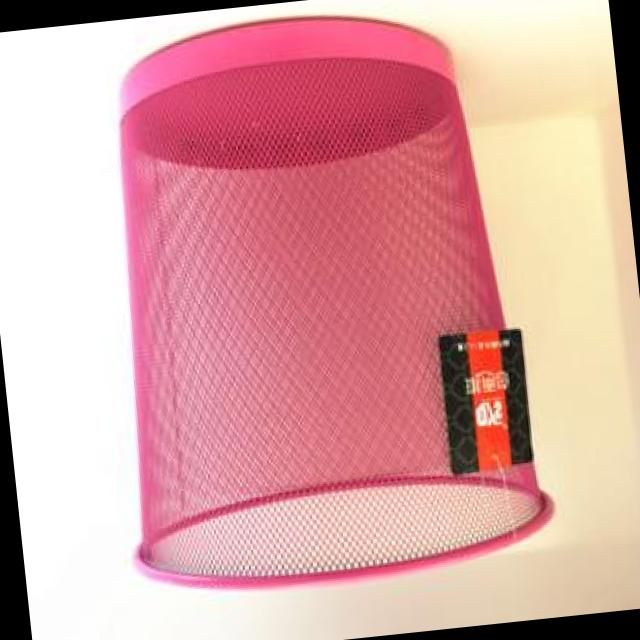dustbin: (74, 0, 570, 612)
